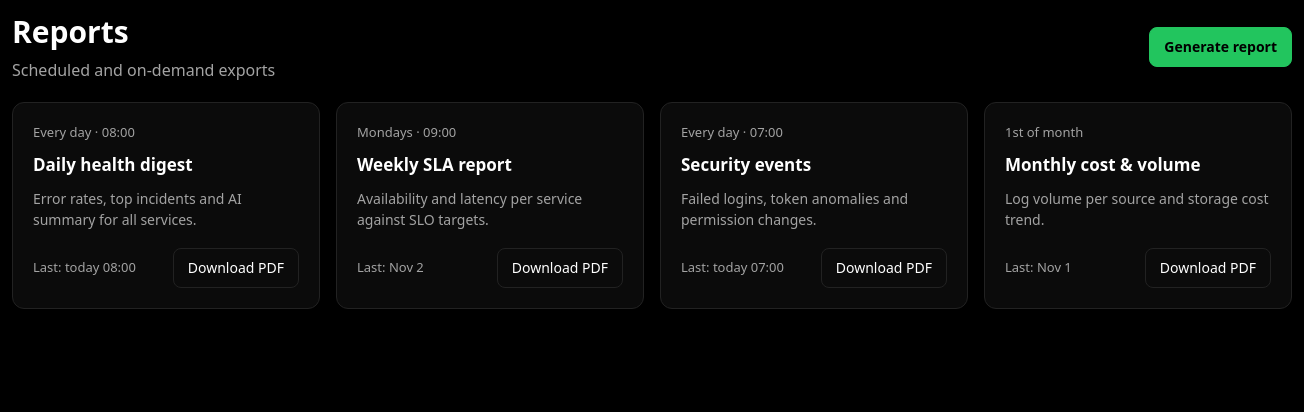
ReportsPage › confirms when a report is generated
The width and height of the screenshot is (1304, 412).
Click the button "Generate report". click: (1221, 47)
box: [1149,27,1292,67]
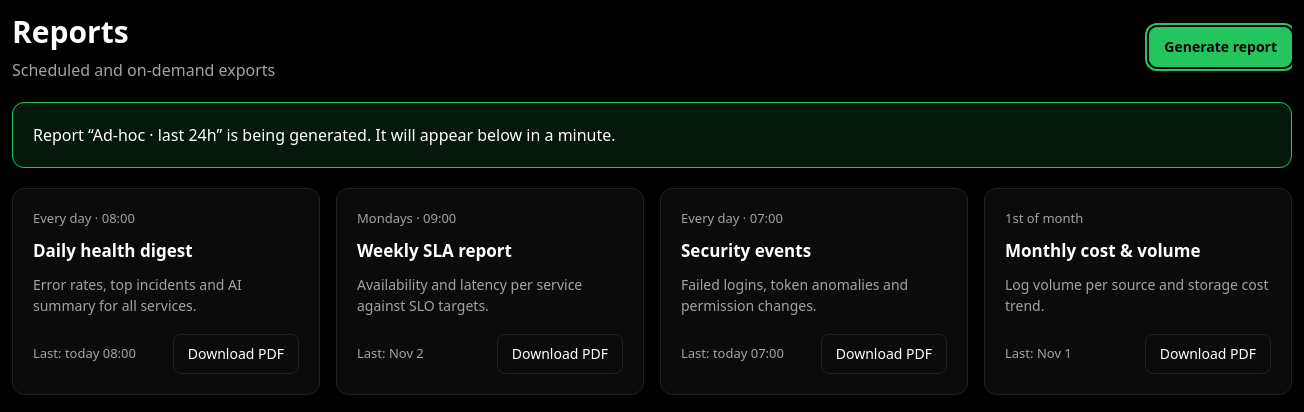
expect the message shows "is being generated": met, box [33,124,616,146]
